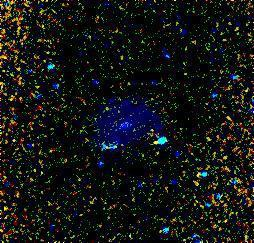star: (142, 128, 172, 158)
